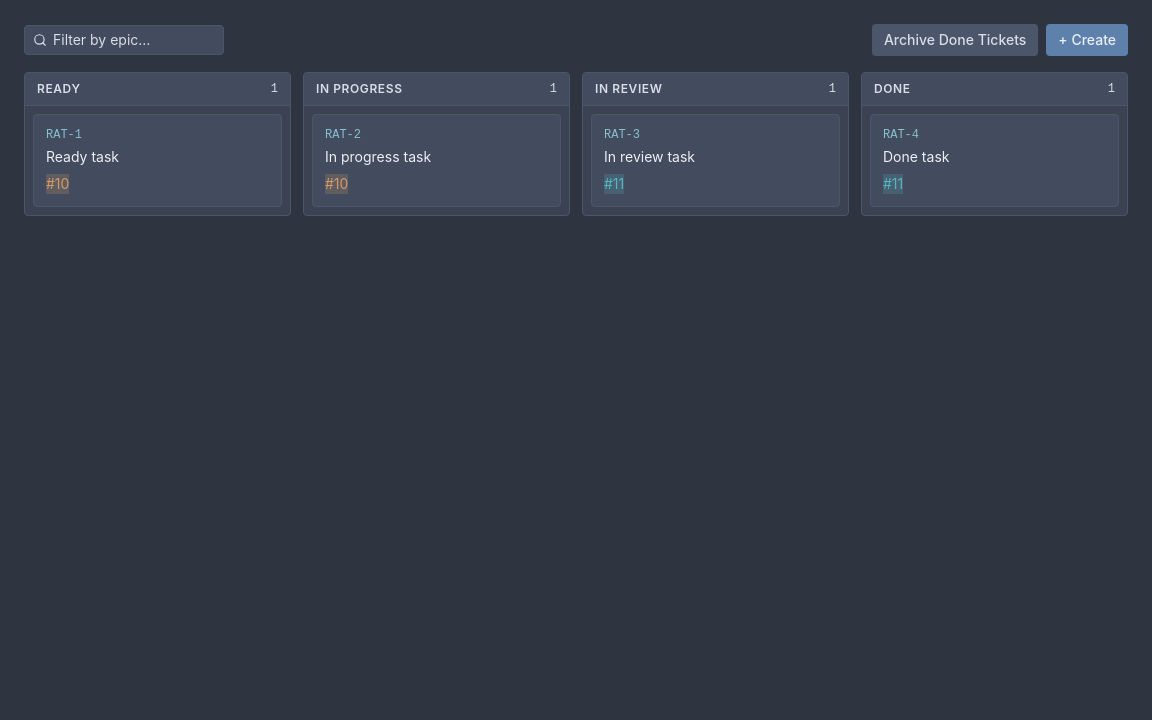
BoardTab › should open the confirmation modal when Archive Done is clicked
Click the button "Archive Done Tickets": (955, 40) [872,24,1038,56]
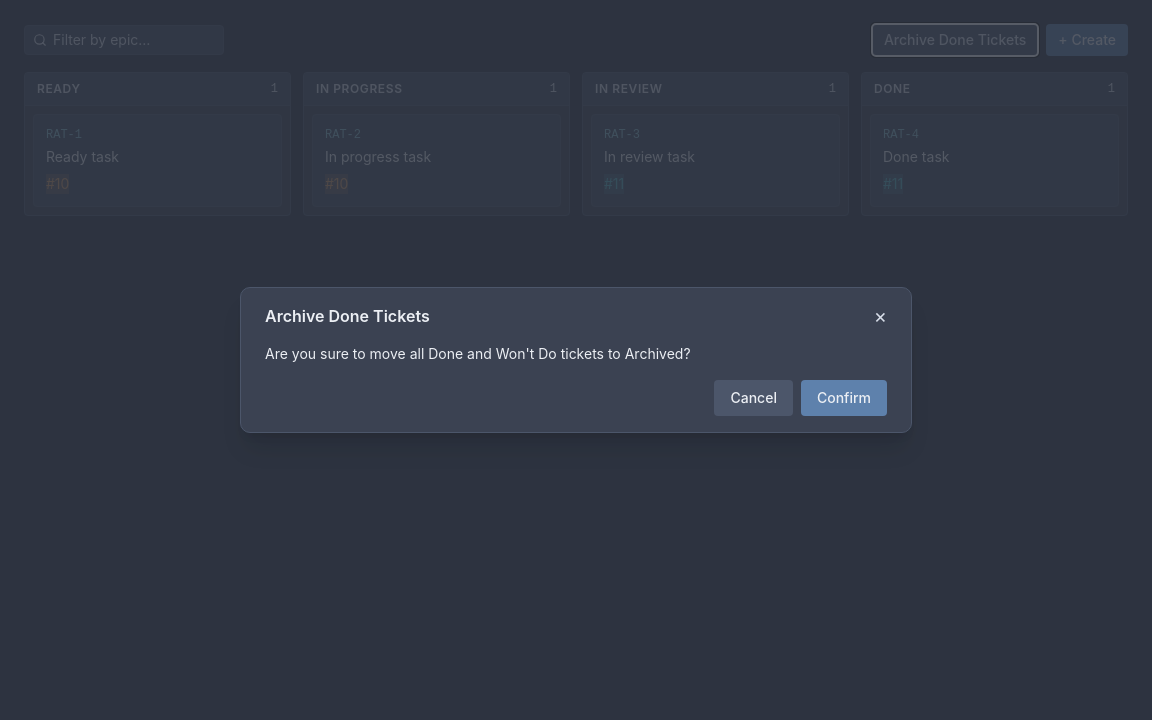
Expected: the dialog is shown
Expected: the heading "Archive Done Tickets" is shown, [265,304,430,328]
